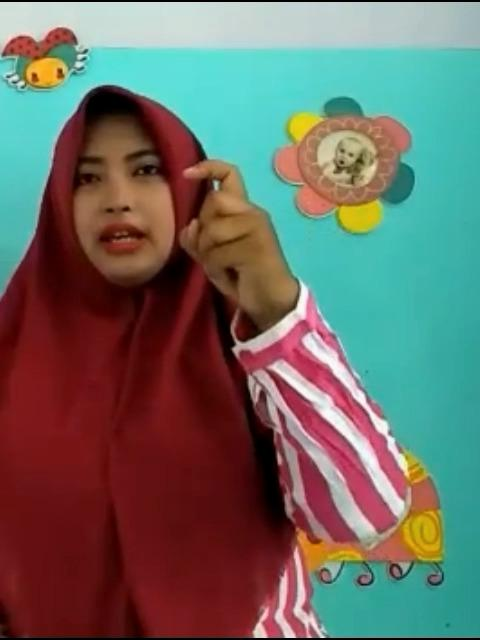X: (174, 153, 286, 317)
